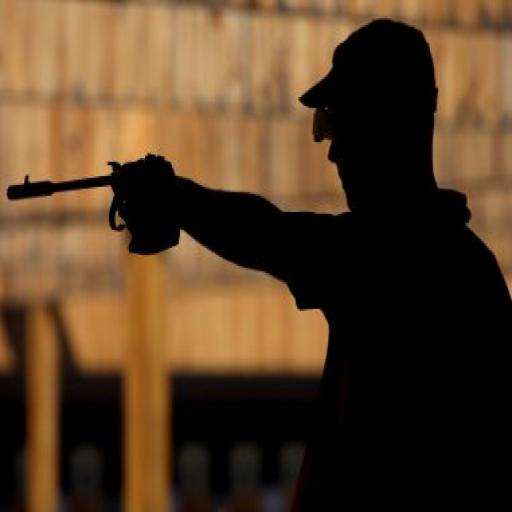shooting: (108, 14, 510, 510)
